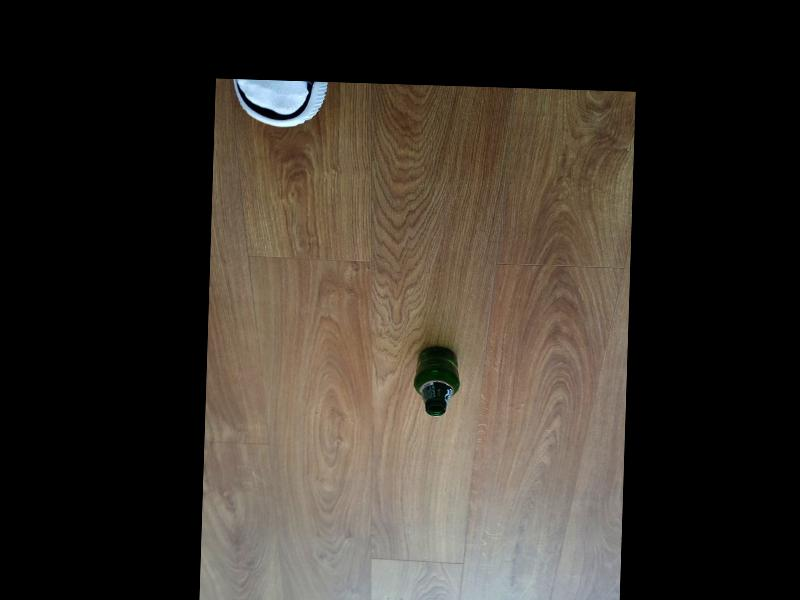Beer: (409, 344, 459, 416)
